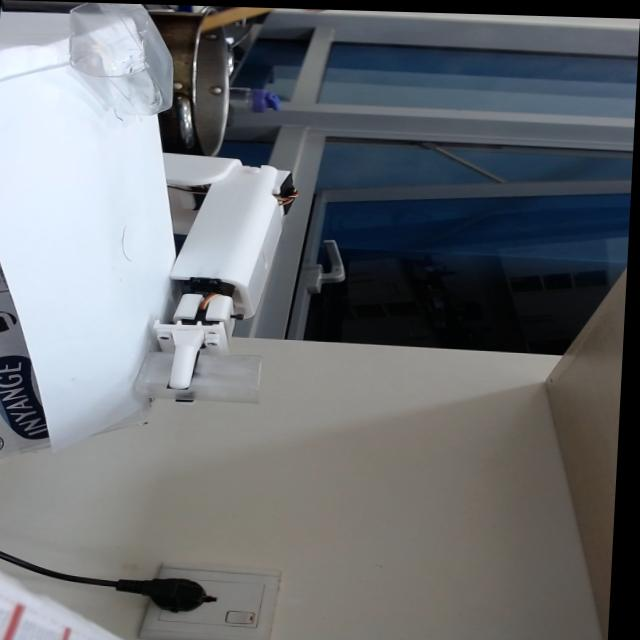cooking_pot: (142, 5, 263, 153)
